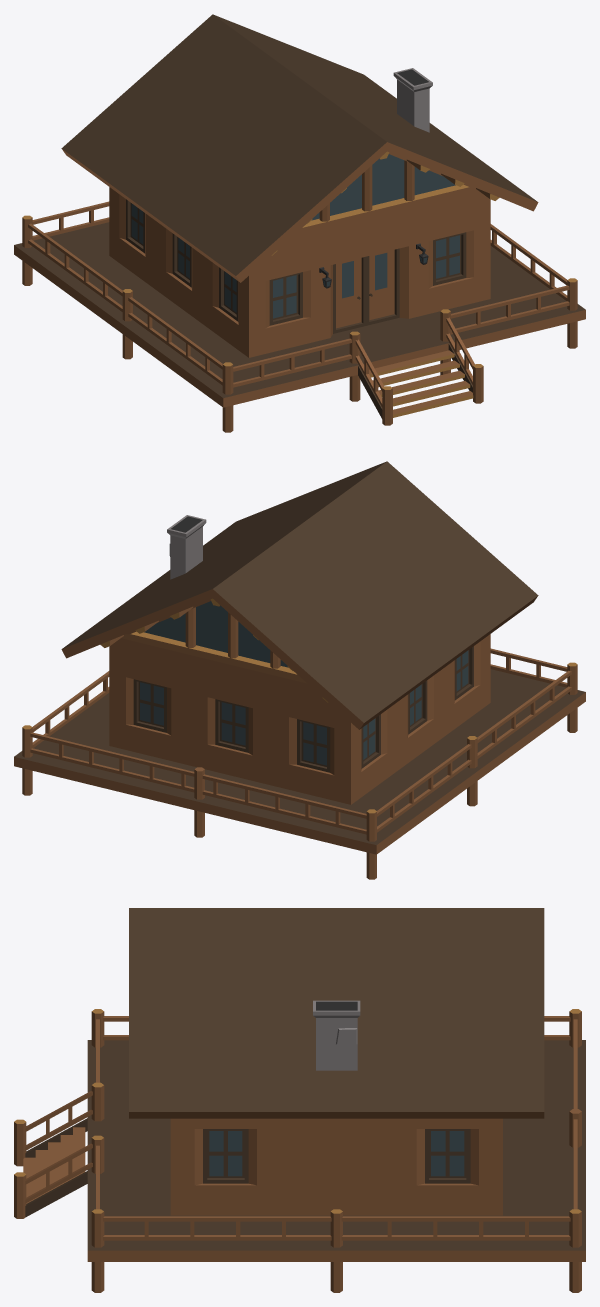
File: building-cabin-big.glb
3 renders of one model, top to bottom at view 1: azimuth 30°, elevation 25°; view 2: azimuth 150°, elevation 25°; view 3: azimuth 270°, elevation 25°, orthographic. The views are drawn at different scales.
Visible parts, largest first — view 1: building-cabin-big; view 2: building-cabin-big; view 3: building-cabin-big.
Boxes of the visible parts, bbox=[...] form: building-cabin-big: bbox=[14, 14, 585, 432]; building-cabin-big: bbox=[14, 461, 585, 879]; building-cabin-big: bbox=[14, 908, 585, 1292].
Bounding box in the file's own units: 12 × 7.5 × 13.77.
